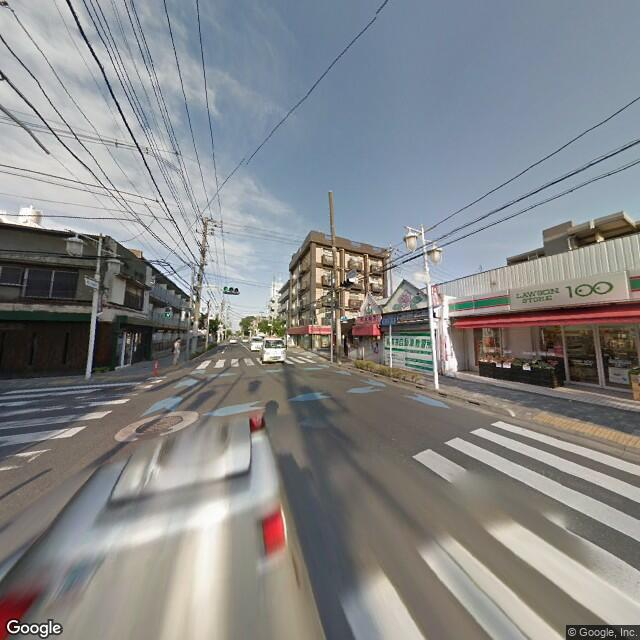lawson: (449, 265, 639, 317)
